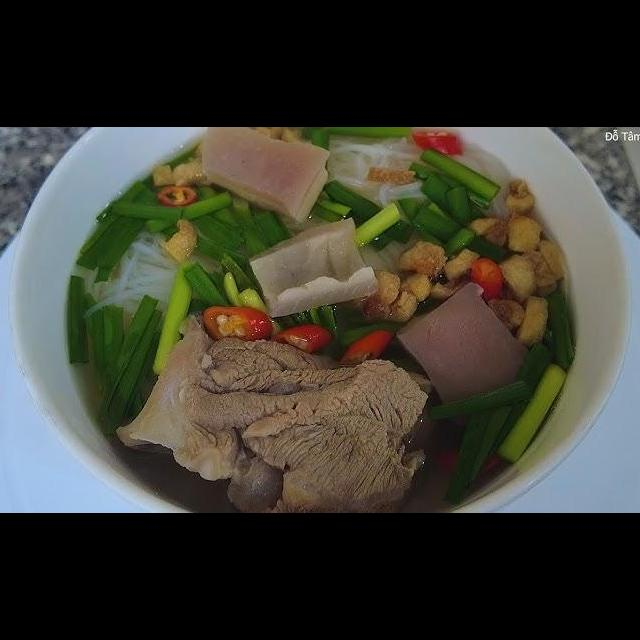banh hu tieu: (322, 132, 519, 225), (80, 222, 221, 331)
hu tieu: (23, 155, 633, 513)
thit heo: (171, 333, 431, 513)
